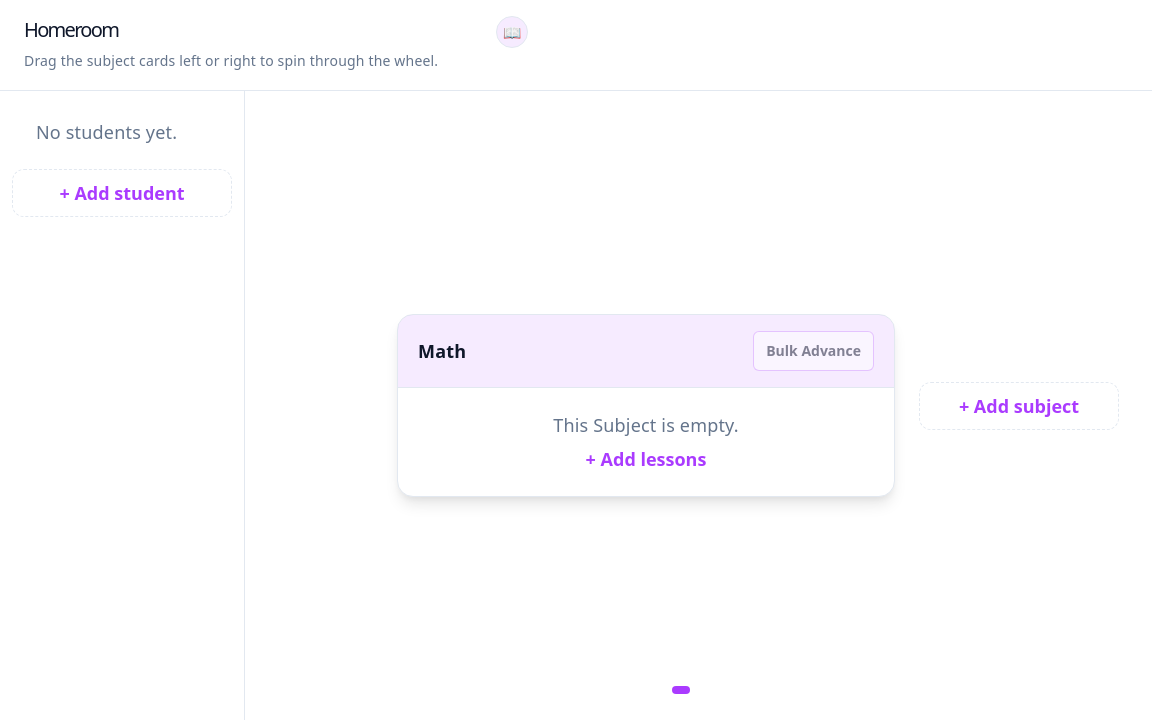
Scenario: ClassBoard › wires up the book icon menu's "Generate report" item, closing the menu
This screenshot has width=1152, height=720.
Click the button named "Add lessons menu" at (512, 32), box [496, 16, 528, 48]
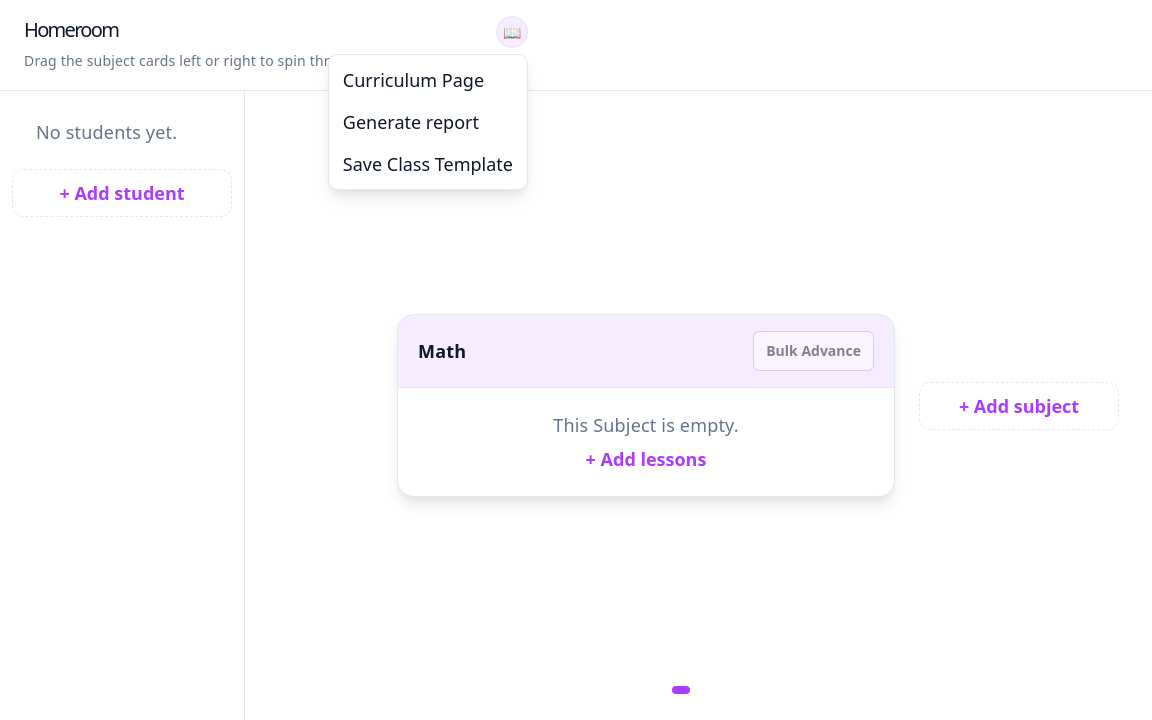
expect the button "Generate report" is shown: met
Click the button "Generate report" at (428, 122), box [333, 101, 523, 143]
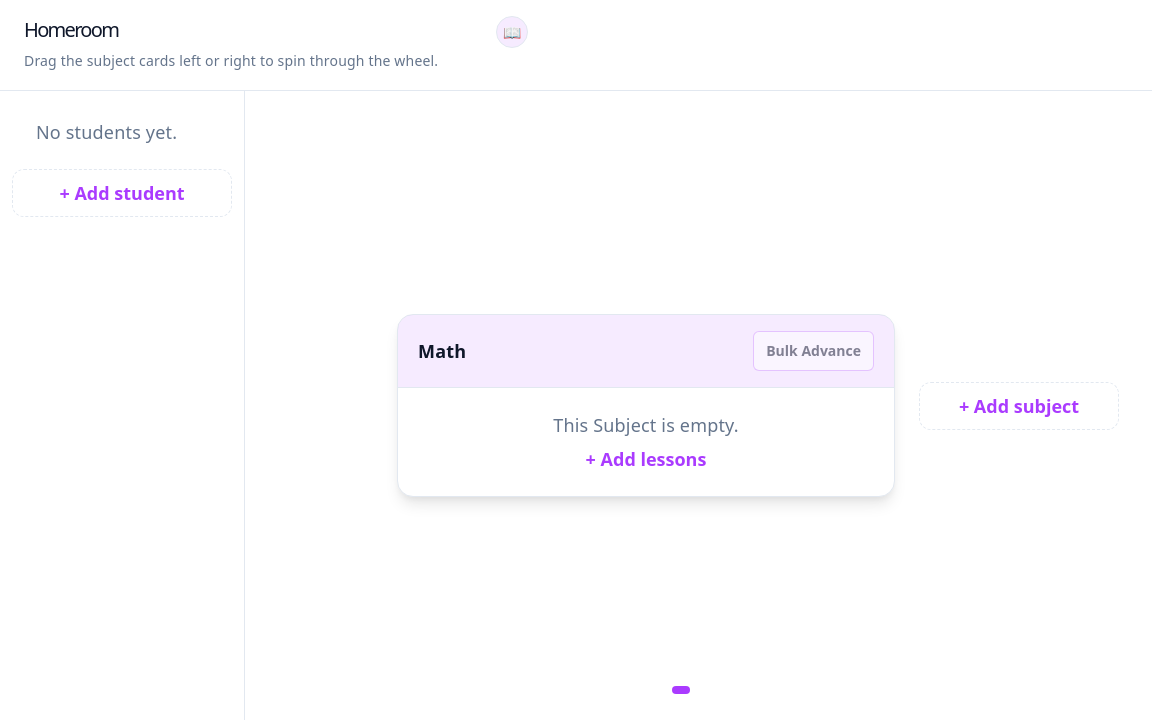
expect the button "Generate report" is gone: met
